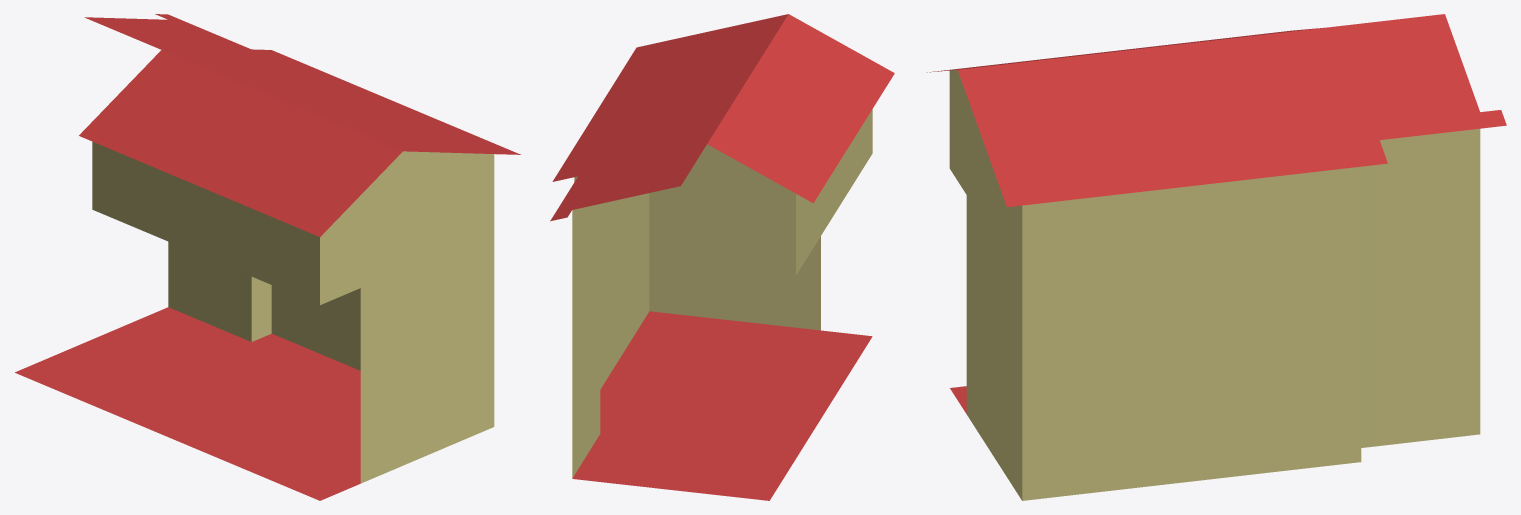
3 views of the same model, side by side, from view 1: azimuth 30°, elevation 25°; view 2: azimuth 150°, elevation 25°; view 3: azimuth 270°, elevation 25° (orthographic). The views are drawn at different scales.
Size of the model in its own units: 9.67 by 13.43 by 9.28.
